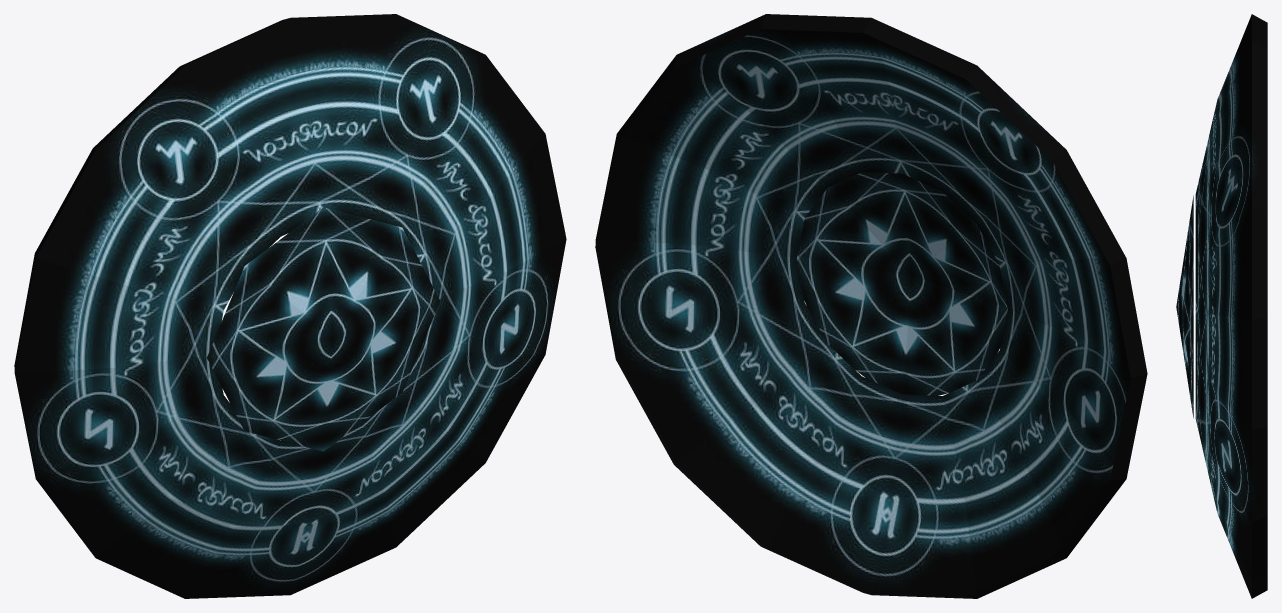
File: mashu_shield1.fbx
3 renders of one model, left to right at view 1: azimuth 30°, elevation 25°; view 2: azimuth 150°, elevation 25°; view 3: azimuth 270°, elevation 25°, orthographic. The views are drawn at different scales.
Visible parts, largest first — view 1: 53.010; view 2: 53.010; view 3: 53.010.
Boxes of the visible parts, bbox=[...] form: 53.010: bbox=[14, 14, 566, 598]; 53.010: bbox=[595, 14, 1147, 598]; 53.010: bbox=[1176, 14, 1267, 598].
Bounding box in the file's own units: 102 × 102 × 15.96.
